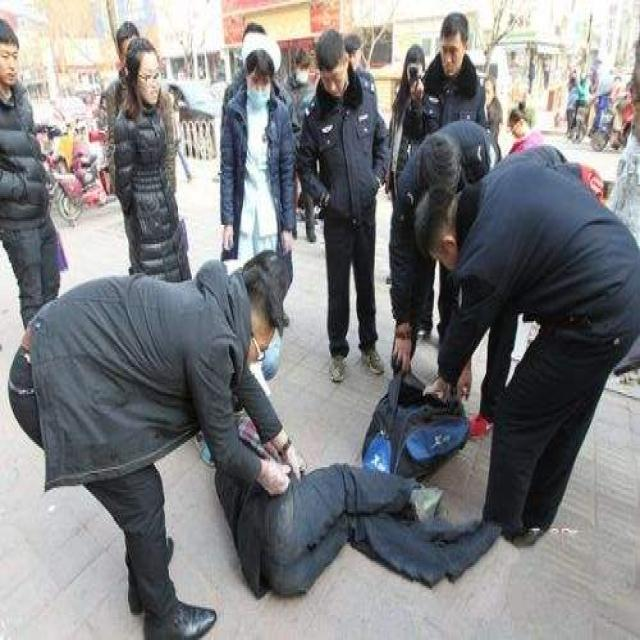10-: (0, 0, 623, 636)
down: (198, 377, 468, 596)
